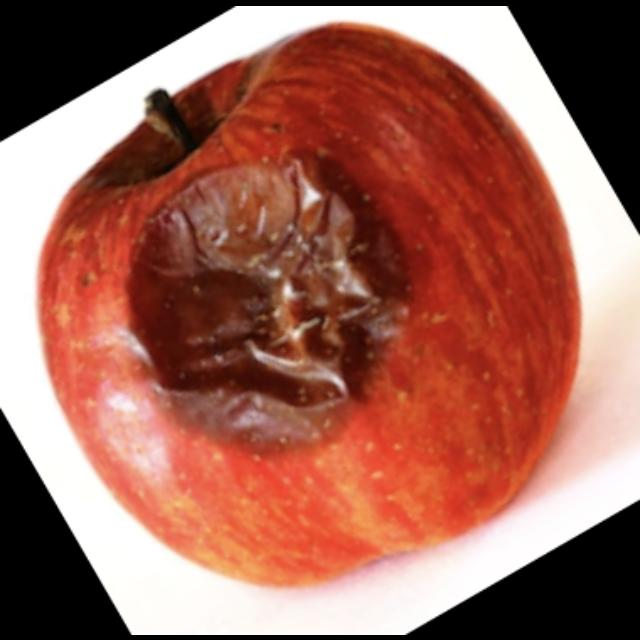Apel Tidak Segar: (37, 23, 573, 591)
